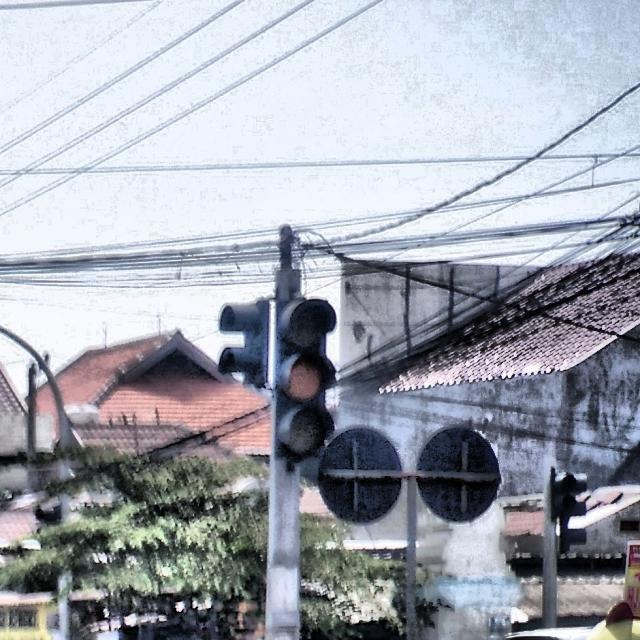yellow: (276, 296, 336, 462)
